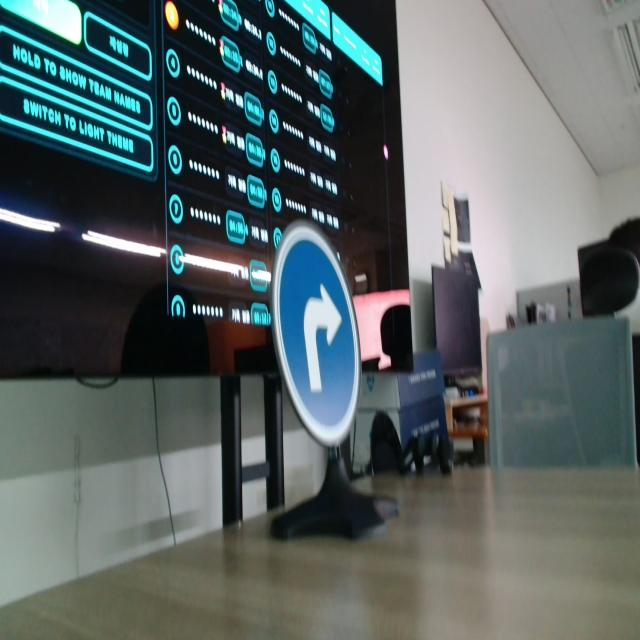right_dierection: (271, 215, 365, 450)
